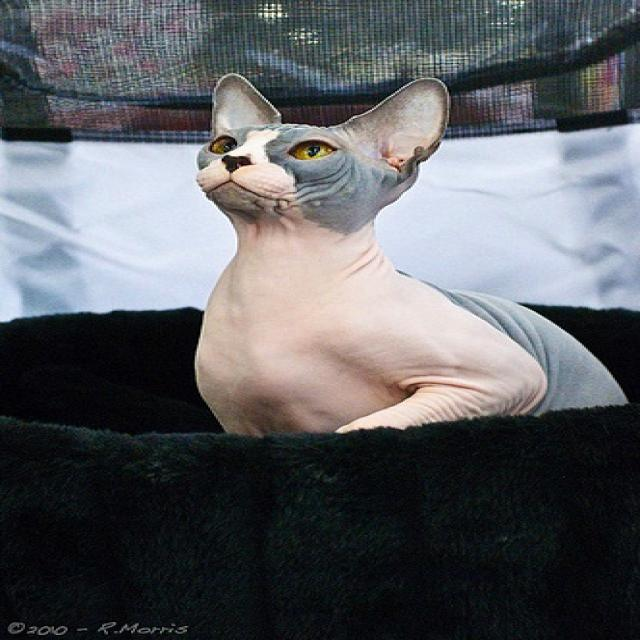cat: (193, 72, 449, 207)
